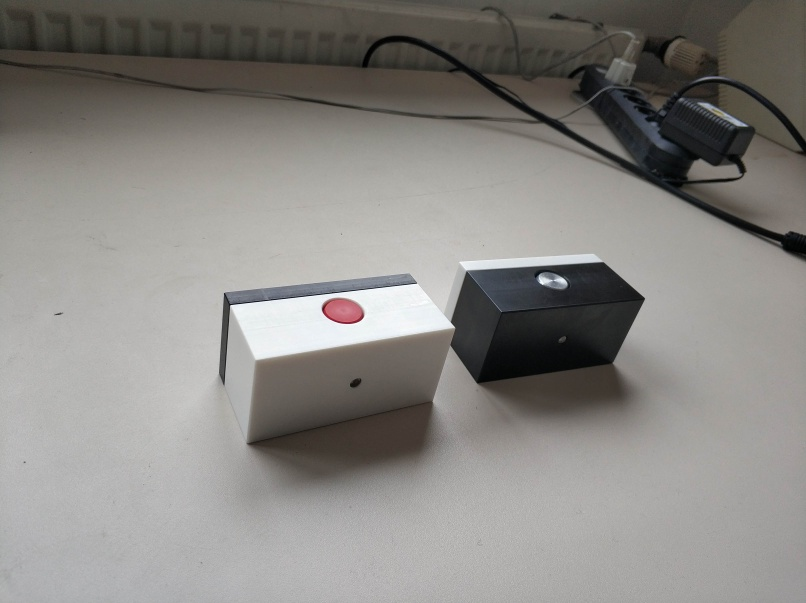black+white+red: (216, 272, 458, 448)
white+black+silver: (441, 251, 648, 385)
